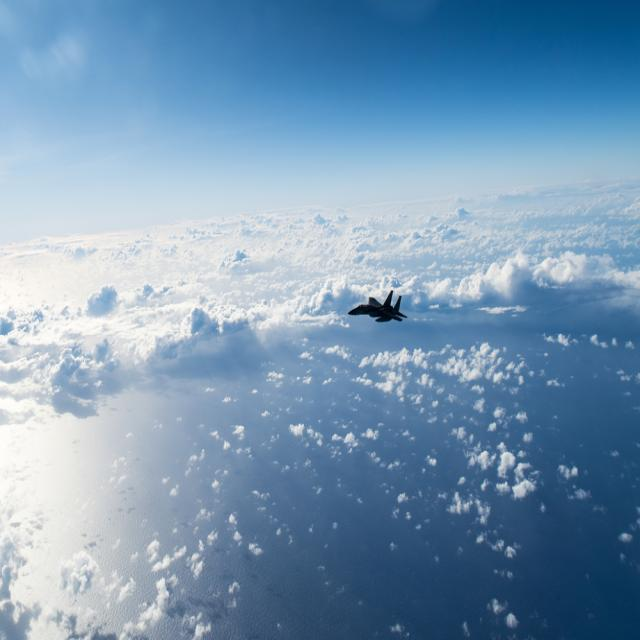MIL_Plane: (348, 290, 408, 322)
